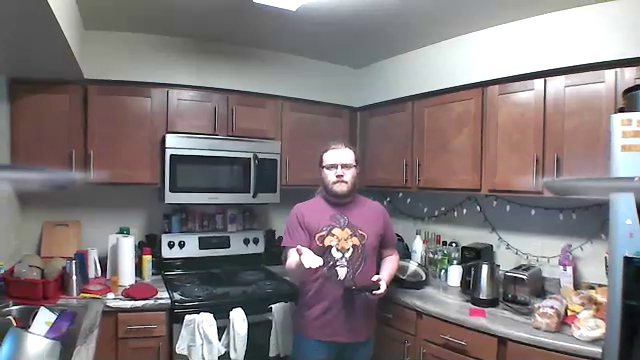land: (292, 241, 324, 269)
